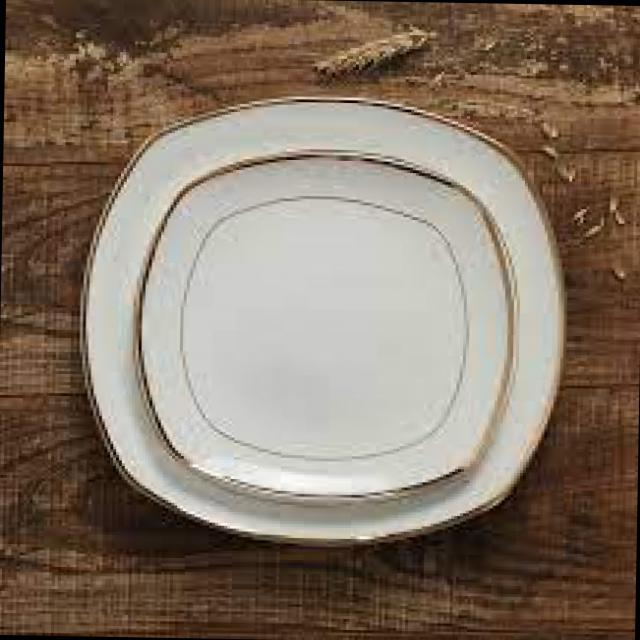plate: (64, 82, 578, 556)
